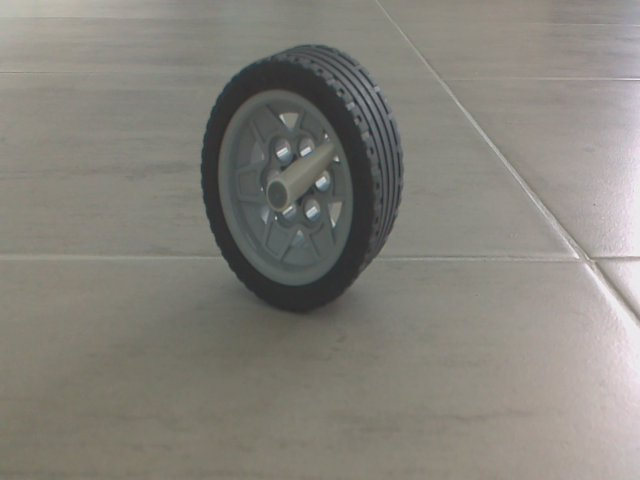Rad+Grau_lang+Kappe: (195, 38, 411, 319)
